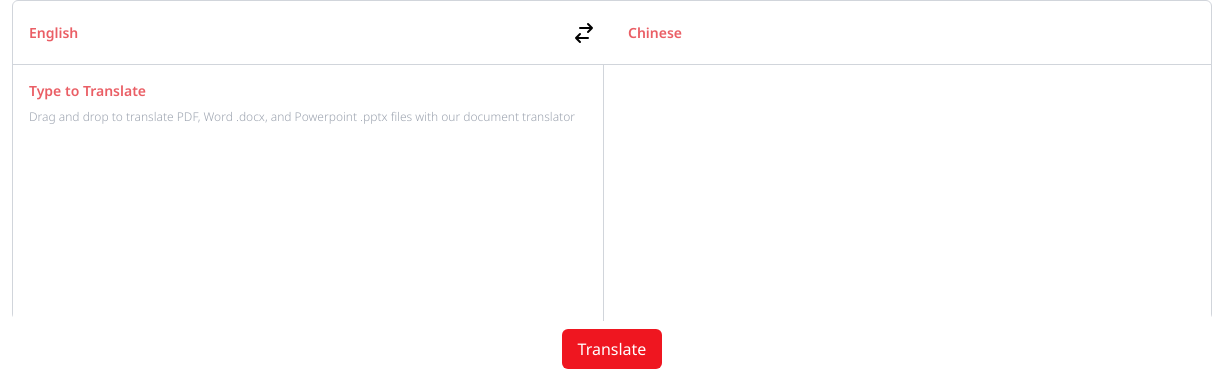
Test: TranslateText › switches English and Chinese headings when the toggle button is clicked
The width and height of the screenshot is (1229, 386).
Expected: the heading with test id "heading-left" reads "English", top-left (29, 22), bottom-right (78, 42)
Expected: the heading with test id "heading-right" reads "Chinese", top-left (628, 22), bottom-right (682, 42)
Click the icon with test id "toggle-language".
click(584, 32)  # box top-left (572, 20), bottom-right (596, 44)
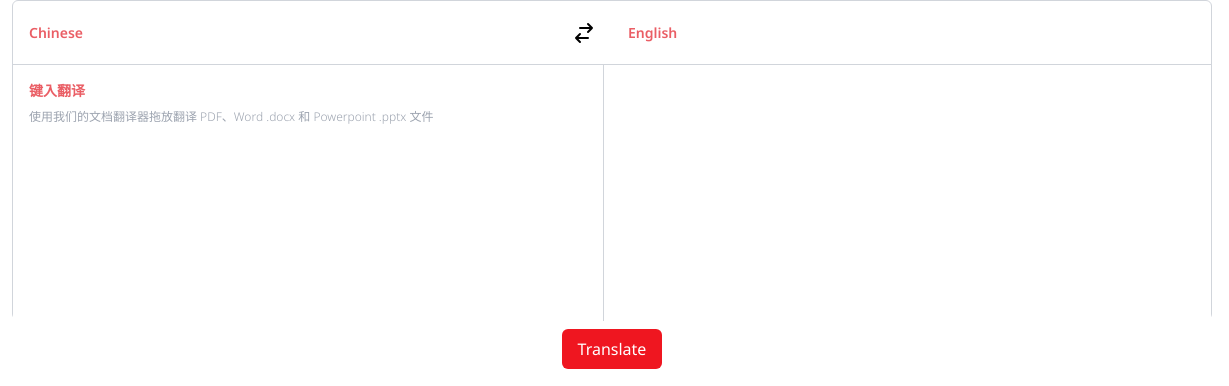
Now the heading with test id "heading-left" reads "Chinese", box top-left (29, 22), bottom-right (83, 42)
Now the heading with test id "heading-right" reads "English", box top-left (628, 22), bottom-right (677, 42)
